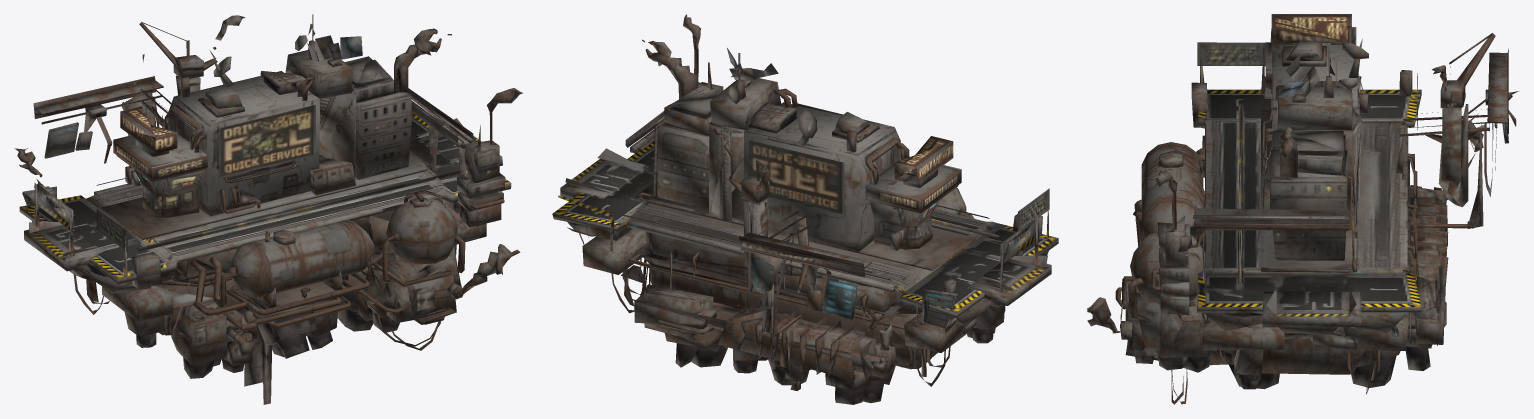
File: gas_n_go_station.glb
3 renders of one model, left to right at view 1: azimuth 30°, elevation 25°; view 2: azimuth 150°, elevation 25°; view 3: azimuth 270°, elevation 25°, orthographic. The views are drawn at different scales.
Size of the model in its own units: 0.9565 by 0.6729 by 0.7251.
1 material, 1 textured.
